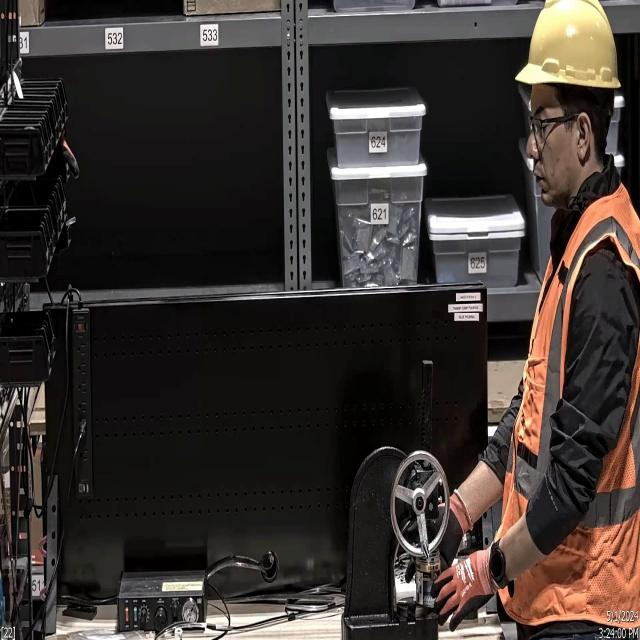construction-gloves: (432, 543, 494, 630)
